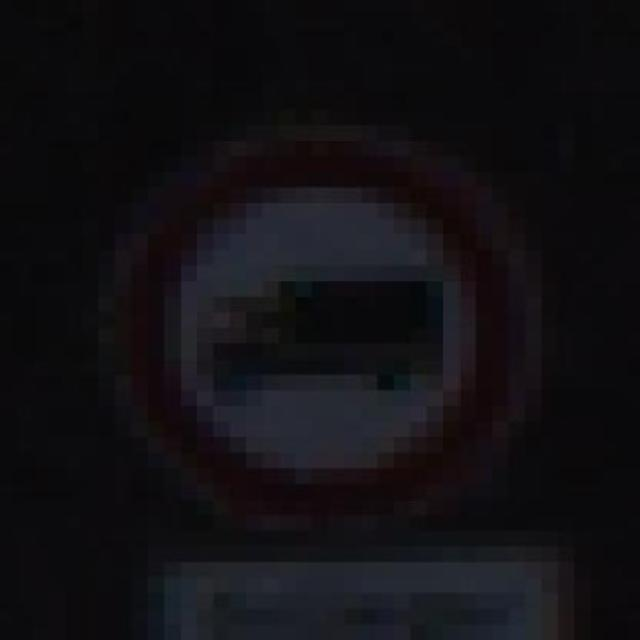Truck traffic is prohibited: (81, 109, 558, 531)
